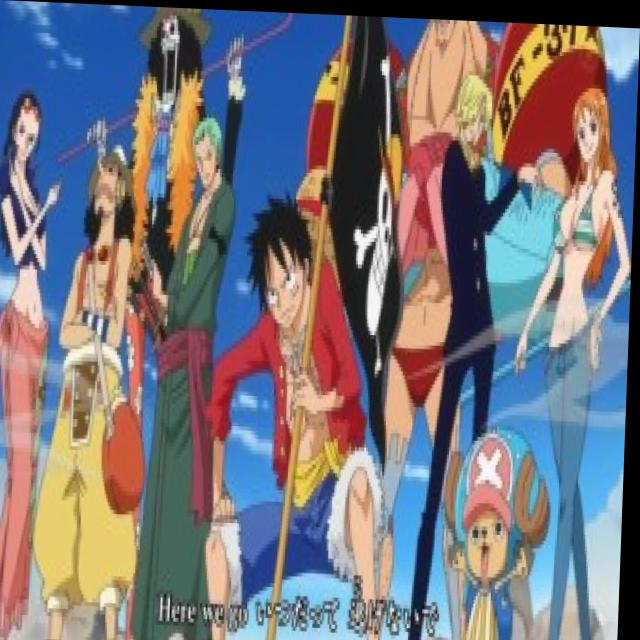Blook: (143, 5, 207, 112)
Chyopa: (443, 405, 554, 640)
Luffy: (243, 188, 327, 331)
Nami: (573, 84, 607, 167)
NicoRobin: (5, 88, 49, 175)
Sangdi: (454, 67, 498, 153)
Usopp: (79, 132, 138, 250)
Zoro: (189, 85, 233, 200)
